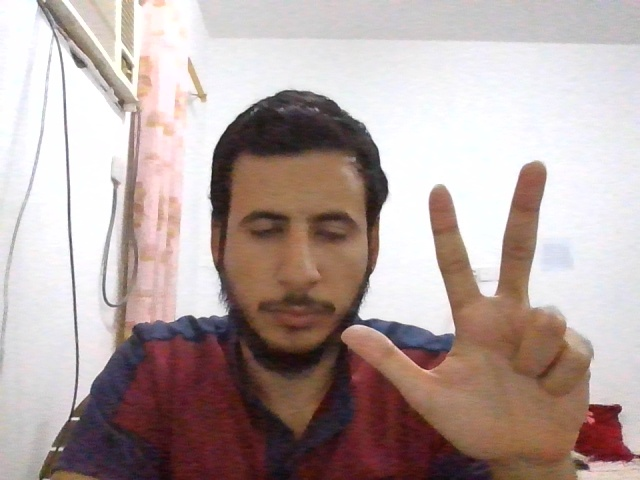Three: (341, 160, 595, 463)
